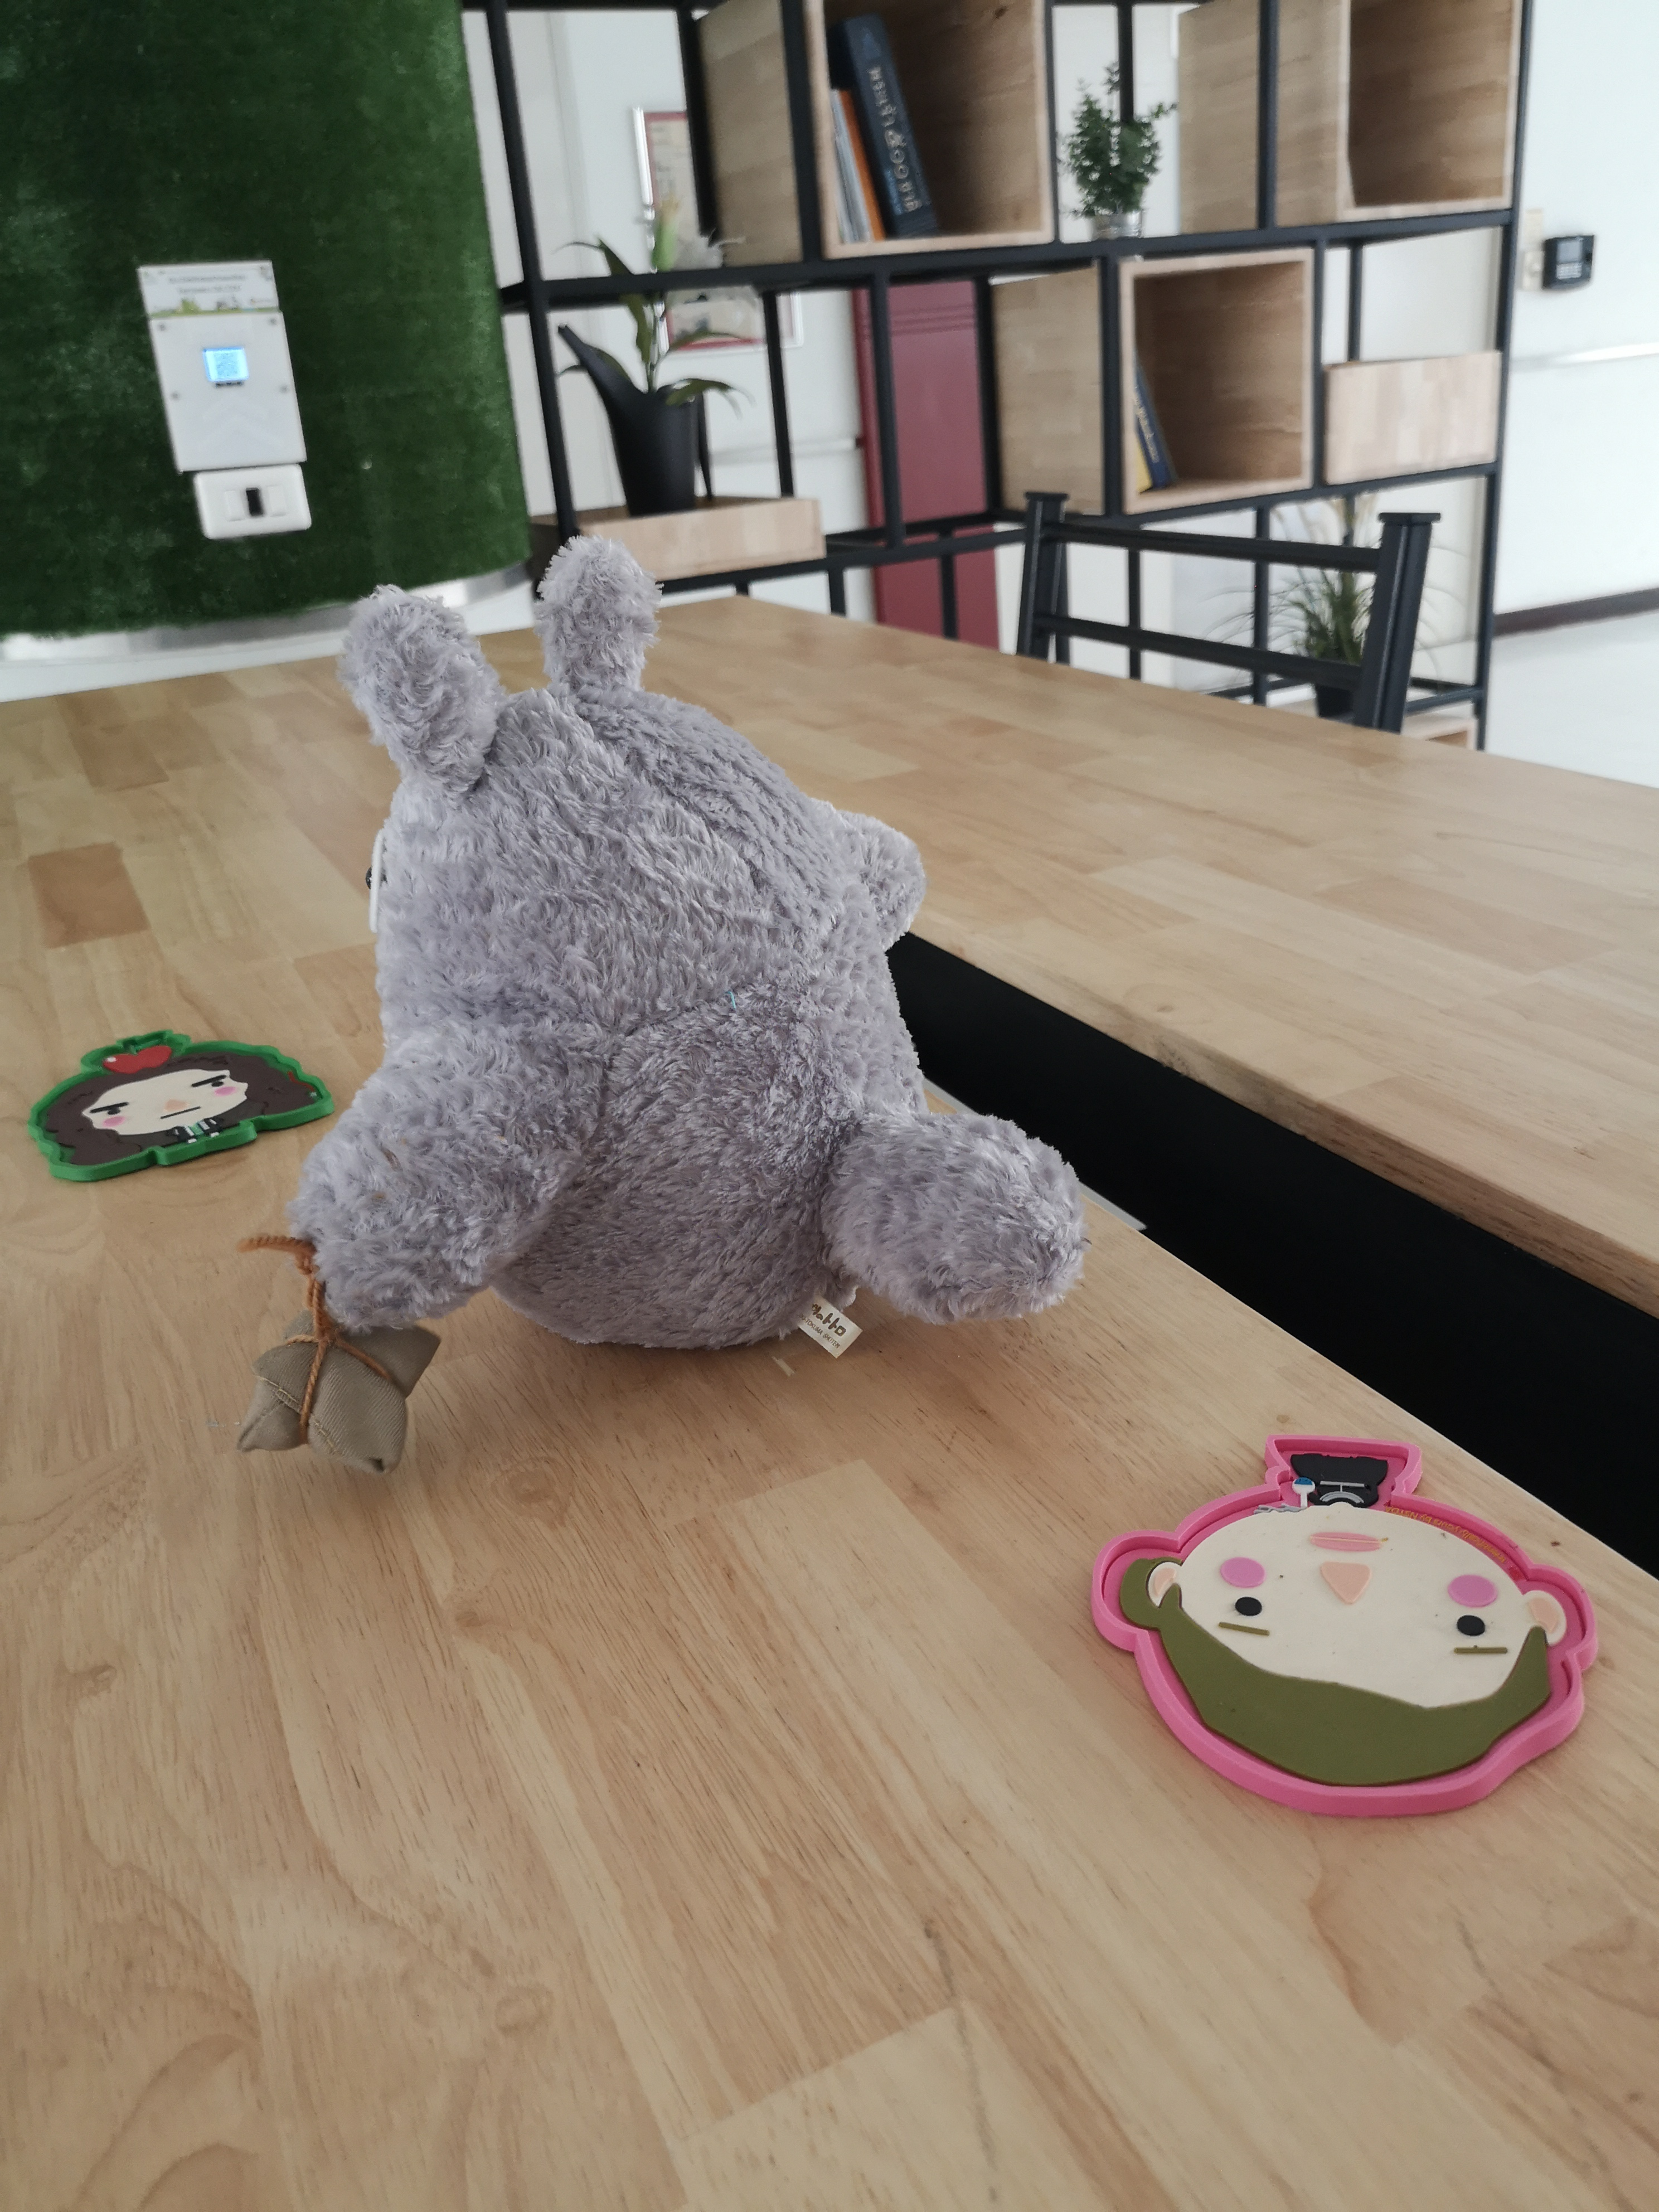totoro: (232, 535, 1087, 1479)
